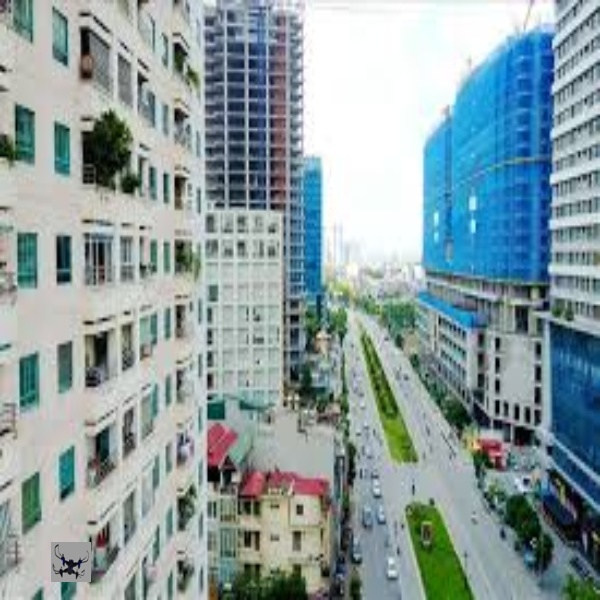drone: (48, 541, 93, 584)
